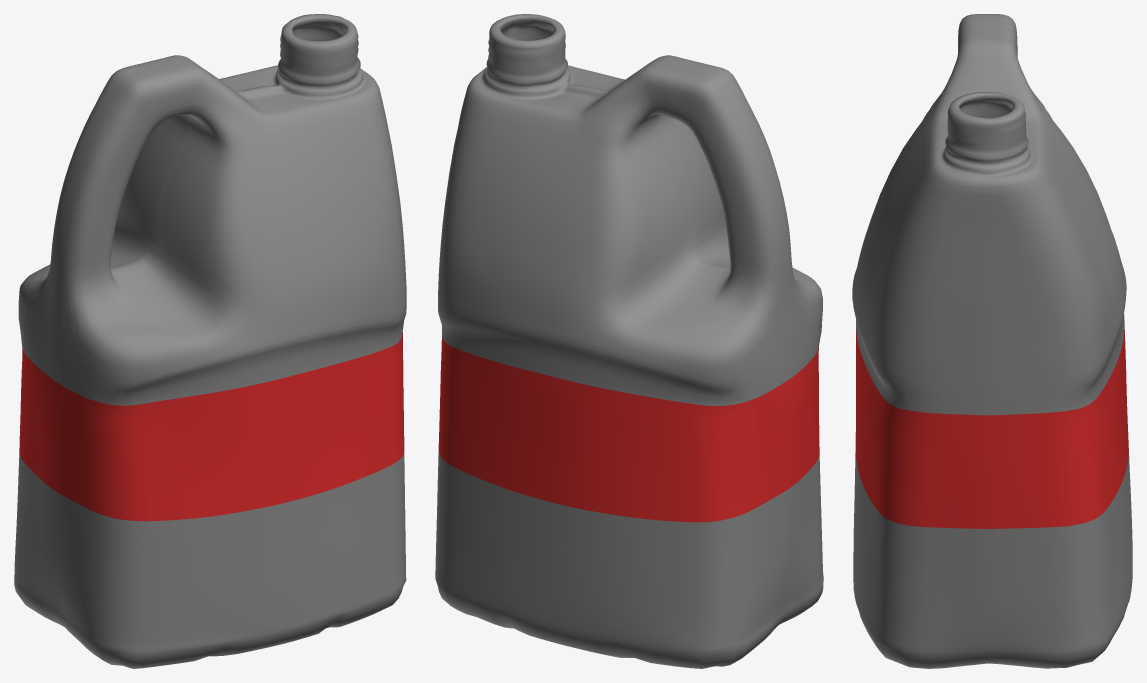
The model's file is galon_basura.glb.
3 views of the same model, side by side, from view 1: azimuth 30°, elevation 25°; view 2: azimuth 150°, elevation 25°; view 3: azimuth 270°, elevation 25° (orthographic).
Visible parts, largest first — view 1: plastic_bottle_gallon; view 2: plastic_bottle_gallon; view 3: plastic_bottle_gallon.
Boxes of the visible parts, <box> form: plastic_bottle_gallon: <box>14,14,406,668</box>; plastic_bottle_gallon: <box>435,14,823,668</box>; plastic_bottle_gallon: <box>852,14,1132,668</box>.
Size of the model in its own units: 0.1663 by 0.2745 by 0.1264.
